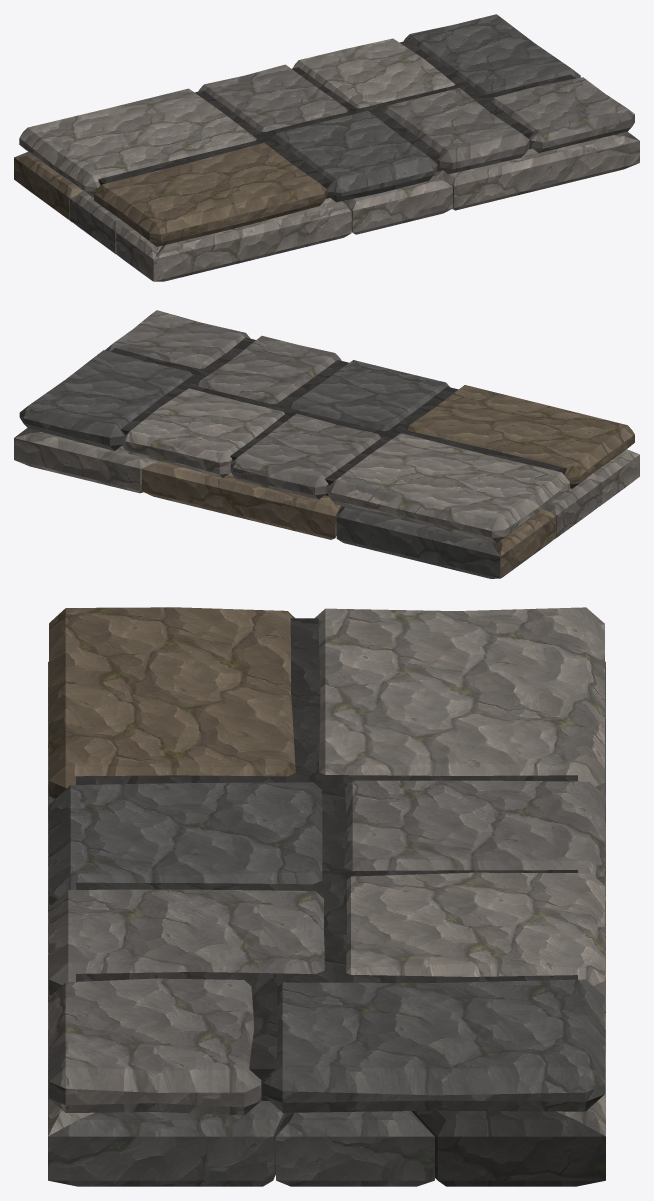
Rendered from floor_half__cut_stone.glb.
The picture shows the model from 3 angles, top to bottom: view 1: azimuth 30°, elevation 25°; view 2: azimuth 150°, elevation 25°; view 3: azimuth 270°, elevation 25°; orthographic projection. The views are drawn at different scales.
Visible parts, largest first — view 1: model; view 2: model; view 3: model.
Boxes of the visible parts, bbox=[...] form: model: bbox=[14, 14, 639, 281]; model: bbox=[14, 310, 639, 578]; model: bbox=[48, 607, 605, 1186].
Size of the model in its own units: 1.99 by 0.235 by 0.988.
Materials: 7 (7 with a texture image).
